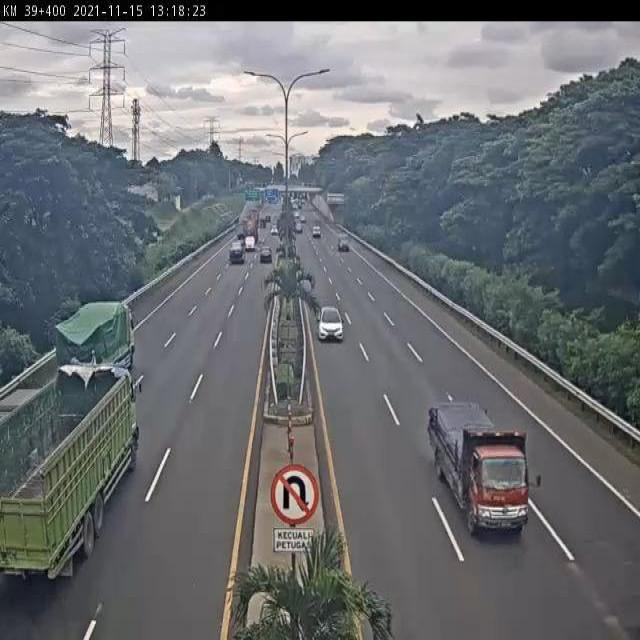car: (315, 304, 345, 343)
truck-l-: (0, 364, 142, 583)
truck-m-: (424, 405, 529, 535), (49, 292, 139, 380)
